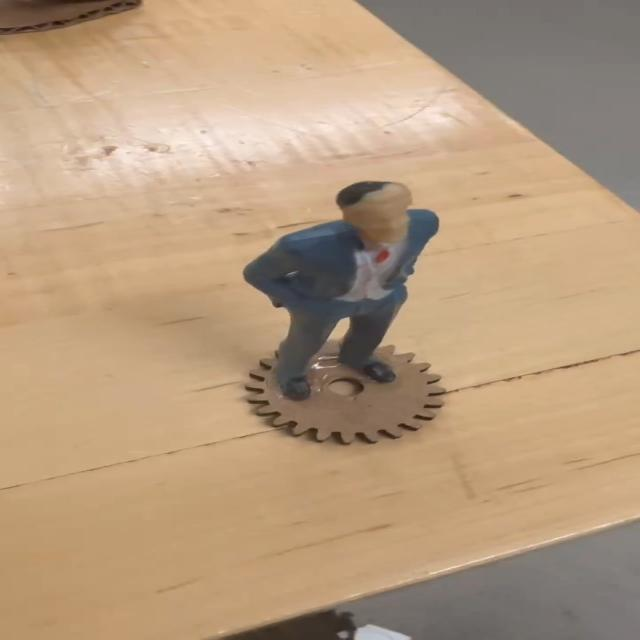Authorized: (220, 175, 450, 413)
